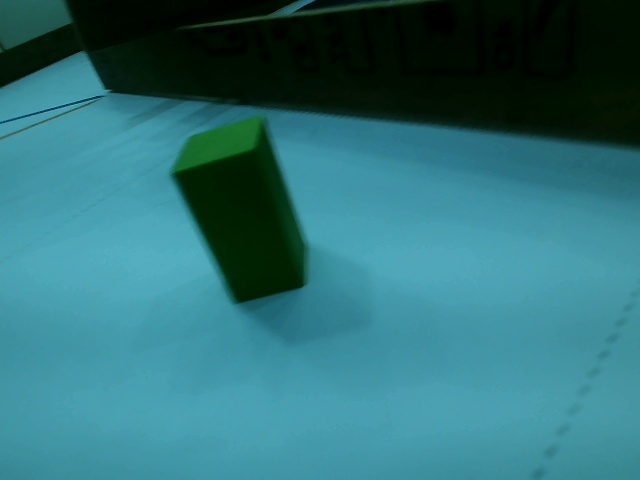green: (190, 135, 306, 292)
